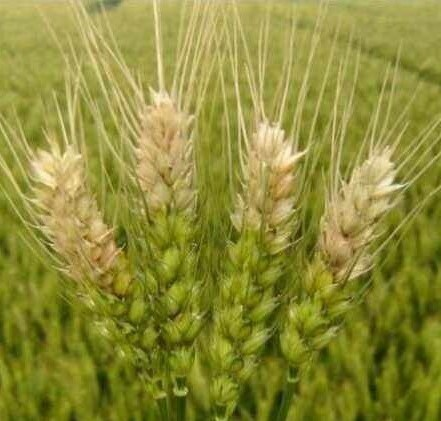Wheat scab: (21, 127, 149, 369), (207, 101, 301, 406)
